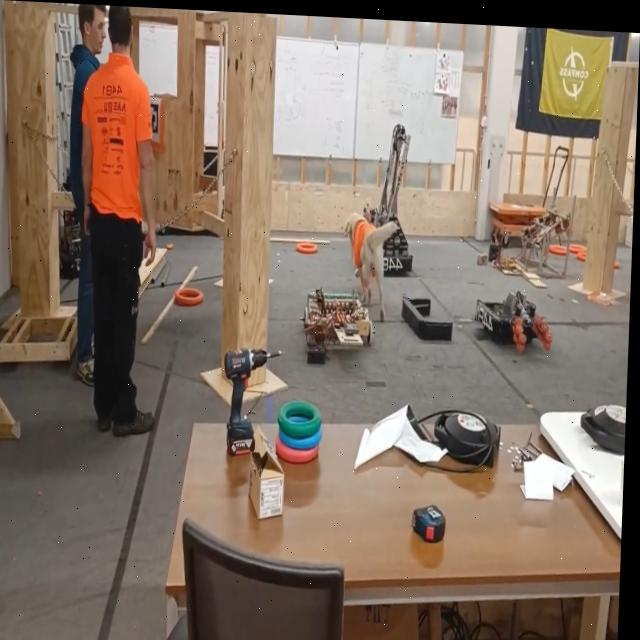note: (177, 284, 206, 306), (297, 237, 321, 251), (548, 237, 571, 250), (570, 235, 588, 248)
robot: (363, 115, 420, 272), (474, 280, 558, 349)
